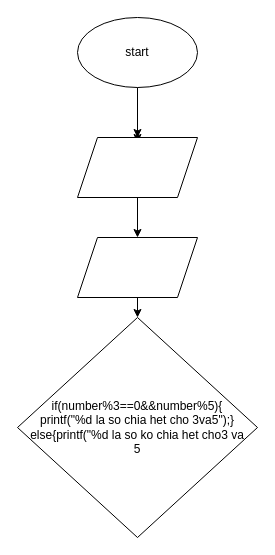
Some shapes in this 275 by 555 pixel diagram are drawn without their labels. The shapes that lost their labels are listed below. From the top down, each one's centre as x and y in pixels, then its label:
At (137,167): "int number".
At (137,267): "nhâp số nguyên sau do in ra".
